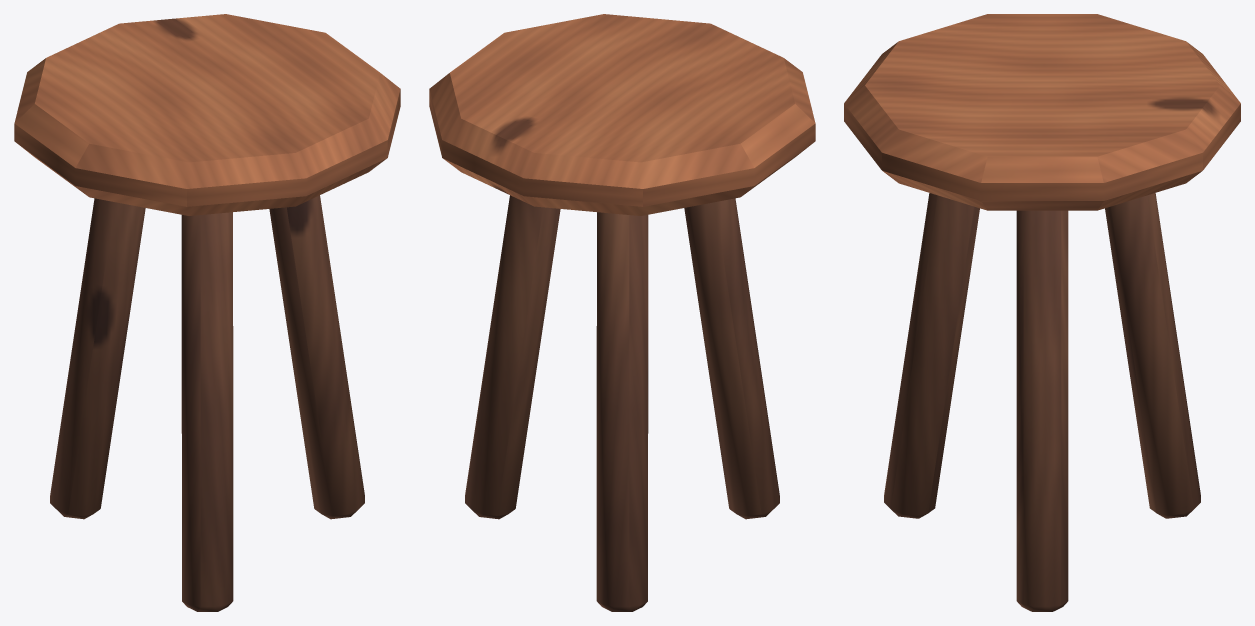
File: stool.gltf
3 views of the same model, side by side, from view 1: azimuth 30°, elevation 25°; view 2: azimuth 150°, elevation 25°; view 3: azimuth 270°, elevation 25° (orthographic).
Parts seen in each view (by area): view 1: stool_mesh; view 2: stool_mesh; view 3: stool_mesh.
Part boxes in pixels (<box>): stool_mesh: <box>14,14,400,611</box>; stool_mesh: <box>429,14,815,611</box>; stool_mesh: <box>844,14,1240,611</box>.
Bounding box in the file's own units: 0.3804 × 0.51 × 0.4.
2 materials, 2 textured.
